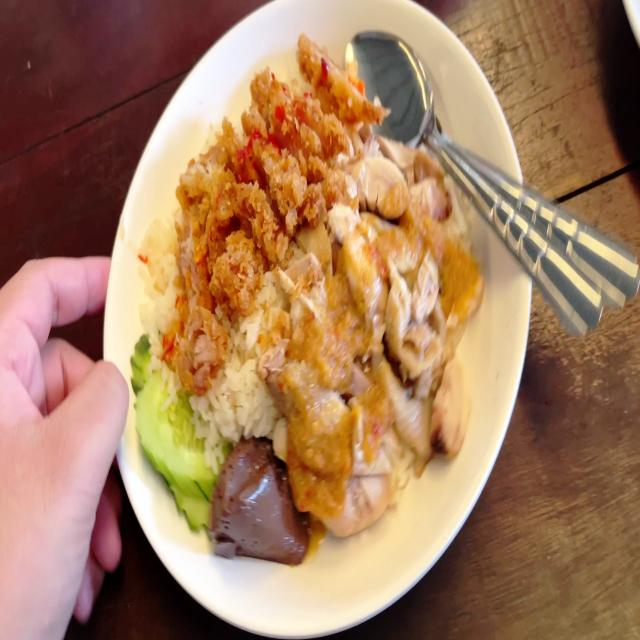boiled_chicken: (287, 152, 468, 504)
boiled_chicken_blood_jelly: (214, 433, 302, 556)
chicken_rice: (135, 32, 488, 560)
cucumber: (133, 328, 219, 526)
fried_chicken: (151, 37, 370, 376)
